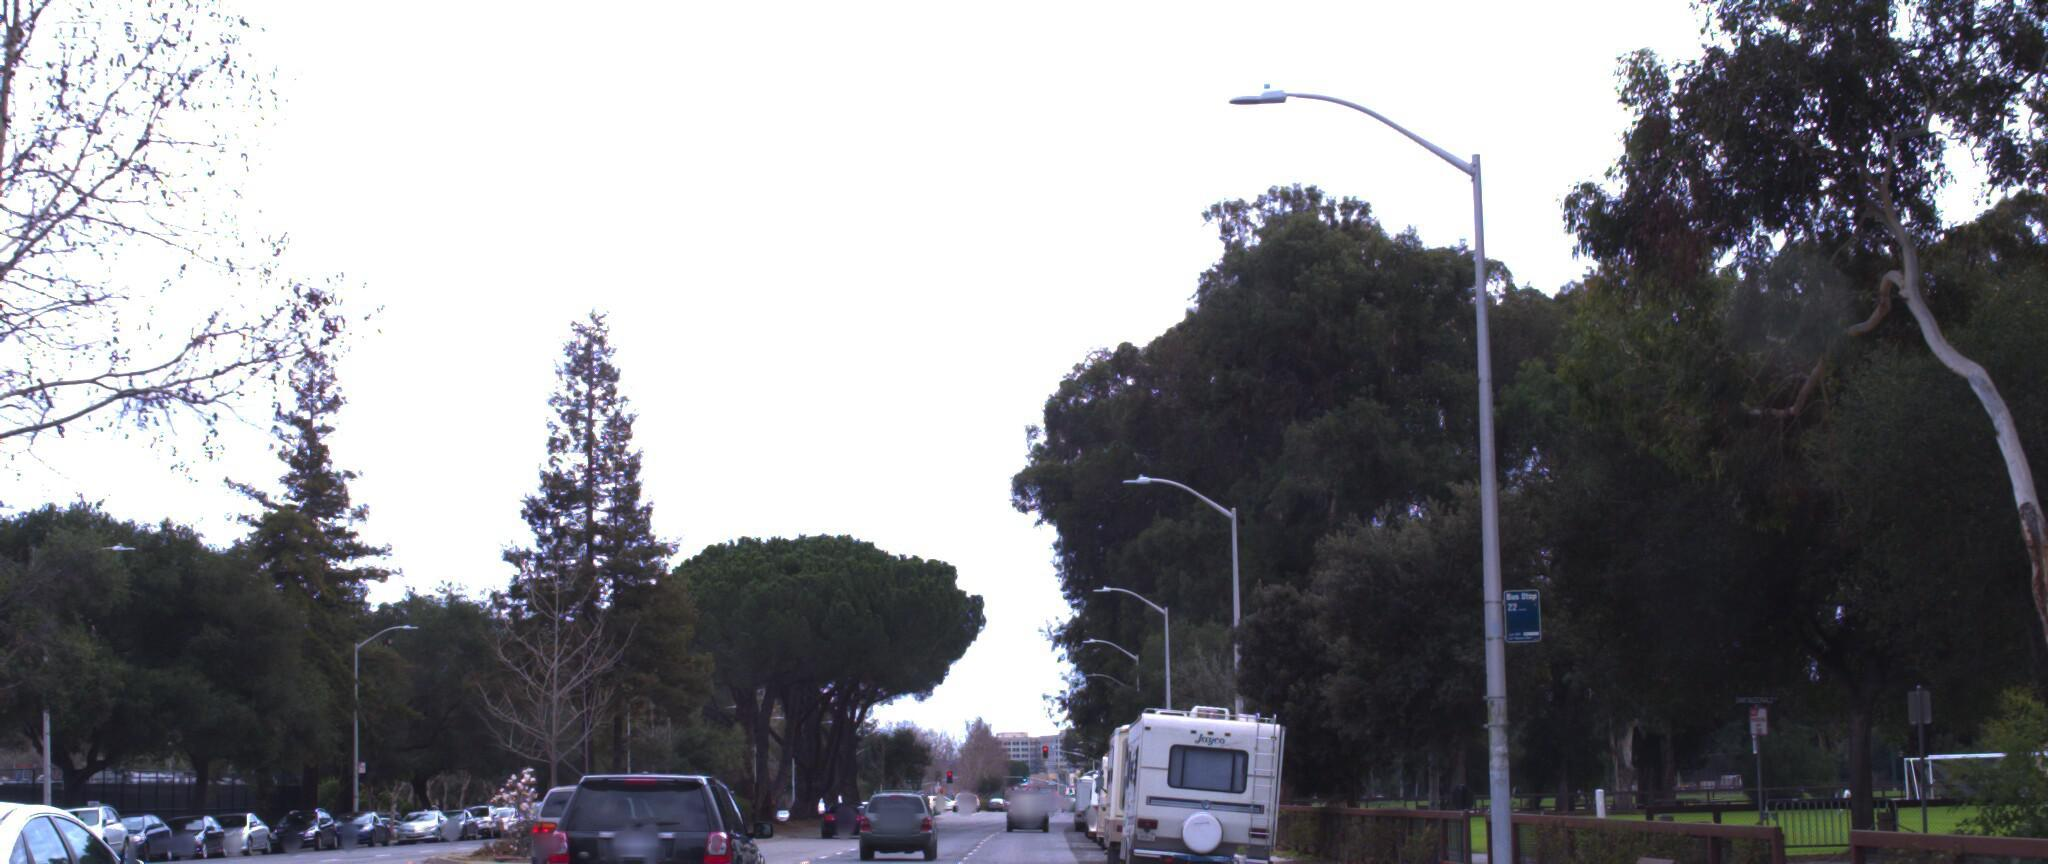car: (538, 750, 775, 864), (0, 769, 212, 864), (1567, 837, 2048, 864), (869, 766, 947, 838)
other_vehicle: (1102, 676, 1289, 864), (1091, 688, 1229, 861)
